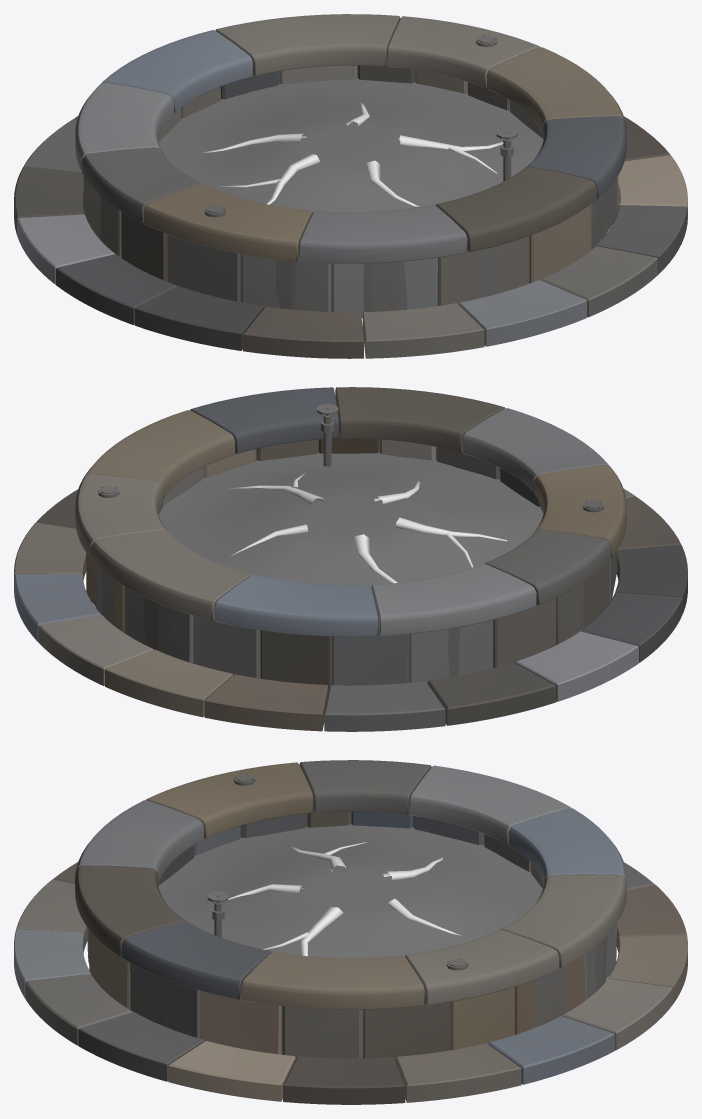
File: TreeBed_Birch3_LOD1.glb
3 views of the same model, one above another, from view 1: azimuth 30°, elevation 25°; view 2: azimuth 150°, elevation 25°; view 3: azimuth 270°, elevation 25° (orthographic).
Parts seen in each view (by area): view 1: TB_Birch3_Ring_LOD1, TB_Birch3_Apron_LOD1, TB_Birch3_Soil_LOD1, TB_Birch3_Roots_LOD1, TB_Birch3_Metal_LOD1; view 2: TB_Birch3_Ring_LOD1, TB_Birch3_Apron_LOD1, TB_Birch3_Soil_LOD1, TB_Birch3_Roots_LOD1, TB_Birch3_Metal_LOD1; view 3: TB_Birch3_Ring_LOD1, TB_Birch3_Apron_LOD1, TB_Birch3_Soil_LOD1, TB_Birch3_Roots_LOD1, TB_Birch3_Metal_LOD1.
Boxes of the visible parts, left/top/right/bottom form: TB_Birch3_Ring_LOD1: left=75, top=14, right=626, bottom=318; TB_Birch3_Apron_LOD1: left=14, top=116, right=687, bottom=358; TB_Birch3_Soil_LOD1: left=159, top=78, right=543, bottom=212; TB_Birch3_Roots_LOD1: left=202, top=102, right=503, bottom=206; TB_Birch3_Metal_LOD1: left=204, top=35, right=518, bottom=217; TB_Birch3_Ring_LOD1: left=75, top=387, right=626, bottom=692; TB_Birch3_Apron_LOD1: left=14, top=489, right=687, bottom=731; TB_Birch3_Soil_LOD1: left=159, top=452, right=543, bottom=587; TB_Birch3_Roots_LOD1: left=228, top=472, right=507, bottom=583; TB_Birch3_Metal_LOD1: left=98, top=404, right=603, bottom=512; TB_Birch3_Ring_LOD1: left=75, top=760, right=626, bottom=1060; TB_Birch3_Apron_LOD1: left=14, top=862, right=687, bottom=1104; TB_Birch3_Soil_LOD1: left=158, top=823, right=542, bottom=958; TB_Birch3_Roots_LOD1: left=213, top=842, right=460, bottom=956; TB_Birch3_Metal_LOD1: left=207, top=773, right=468, bottom=970.
Size of the model in its own units: 4.08 by 0.7413 by 4.08.
